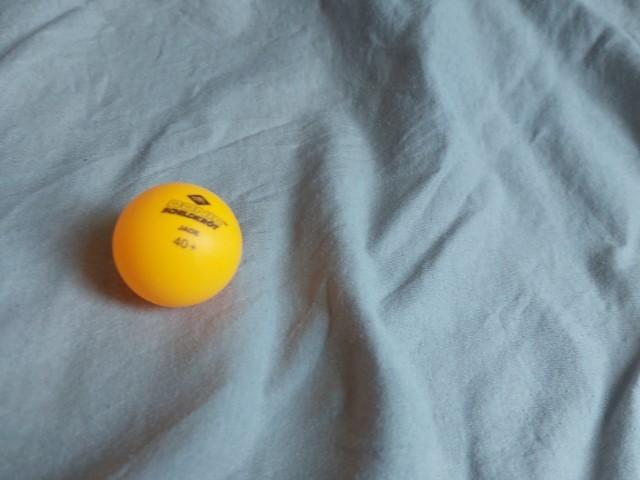oball: (106, 179, 246, 312)
